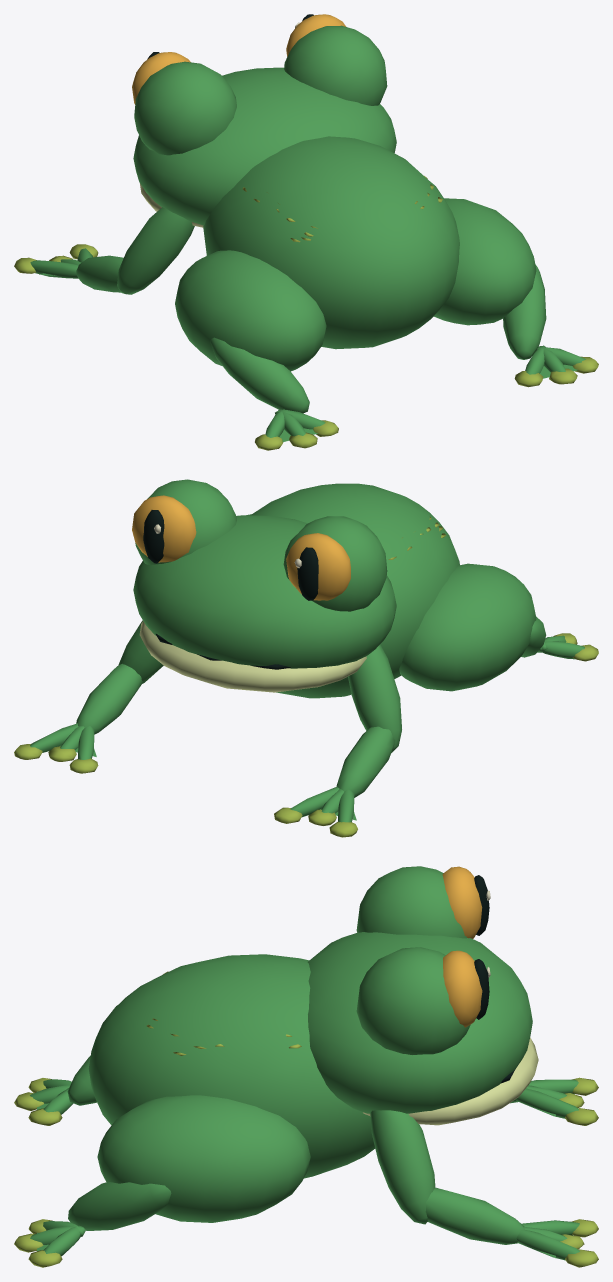
The model's file is frog.glb.
The picture shows the model from 3 angles, top to bottom: view 1: azimuth 30°, elevation 25°; view 2: azimuth 150°, elevation 25°; view 3: azimuth 270°, elevation 25°; orthographic projection. The views are drawn at different scales.
Visible parts, largest first — view 1: FROG; view 2: FROG; view 3: FROG.
Boxes of the visible parts, box(x1,y1,x2,y2) form: FROG: box(14, 14, 598, 450); FROG: box(14, 479, 598, 837); FROG: box(14, 866, 598, 1267).
Size of the model in its own units: 0.7575 by 0.5099 by 1.01.
